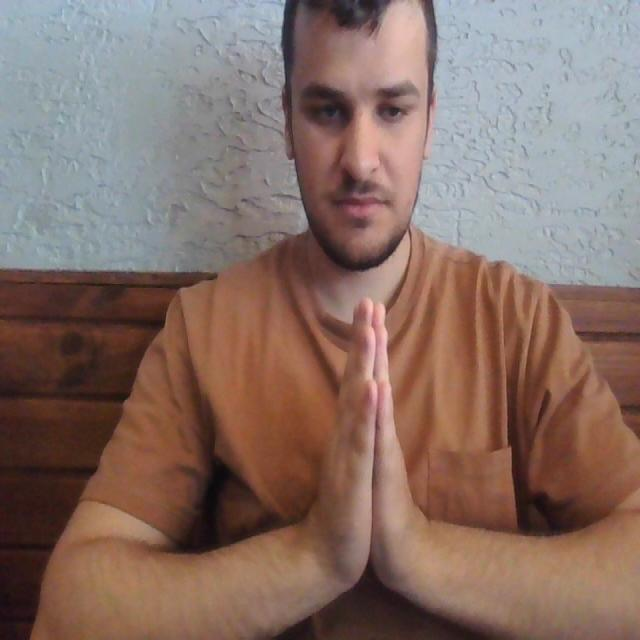Ozur-Dilemek: (310, 293, 427, 616)
